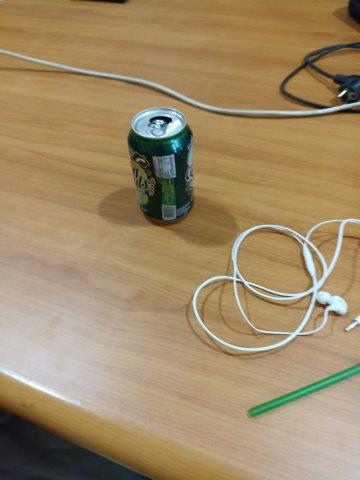kaleng: (127, 106, 194, 226)
